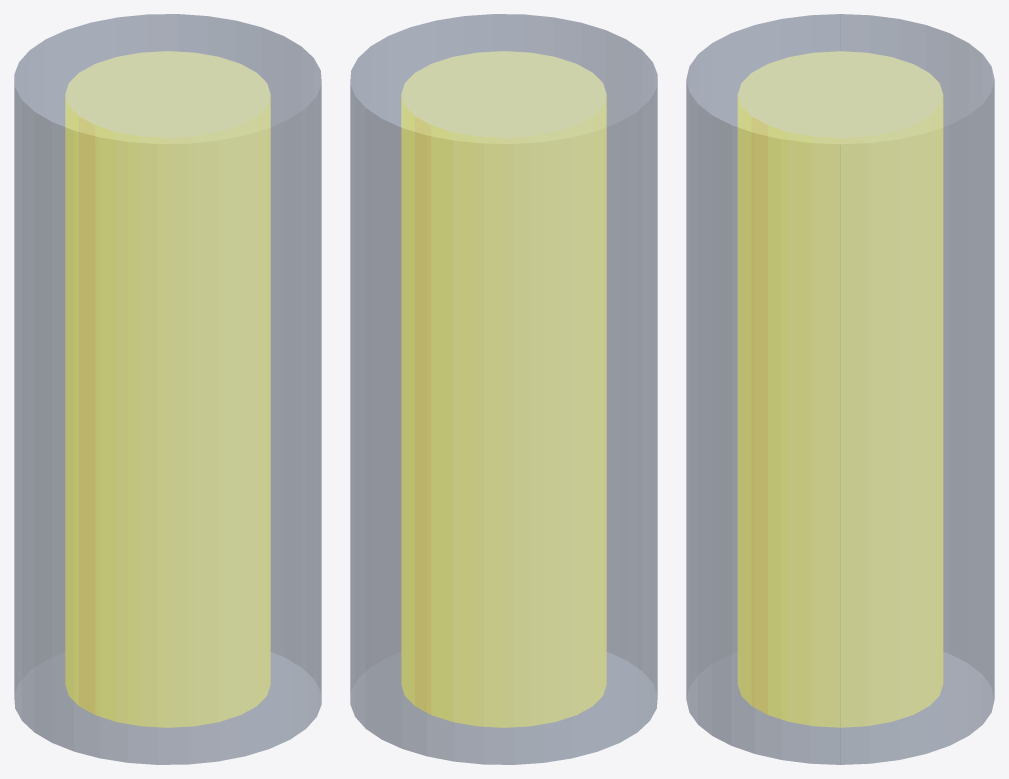
Rendered from reactor.glb.
3 views of the same model, side by side, from view 1: azimuth 30°, elevation 25°; view 2: azimuth 150°, elevation 25°; view 3: azimuth 270°, elevation 25° (orthographic).
Visible parts, largest first — view 1: mc_reactor_outer, mc_reactor_inner; view 2: mc_reactor_outer, mc_reactor_inner; view 3: mc_reactor_outer, mc_reactor_inner.
Part boxes in pixels (box(x1,y1,x2,y2)): mc_reactor_outer: box(14, 14, 321, 764); mc_reactor_inner: box(65, 51, 270, 727); mc_reactor_outer: box(350, 14, 657, 764); mc_reactor_inner: box(401, 51, 606, 727); mc_reactor_outer: box(686, 14, 994, 764); mc_reactor_inner: box(737, 51, 943, 727).
Bounding box in the file's own units: 0.9 × 2 × 0.9.
